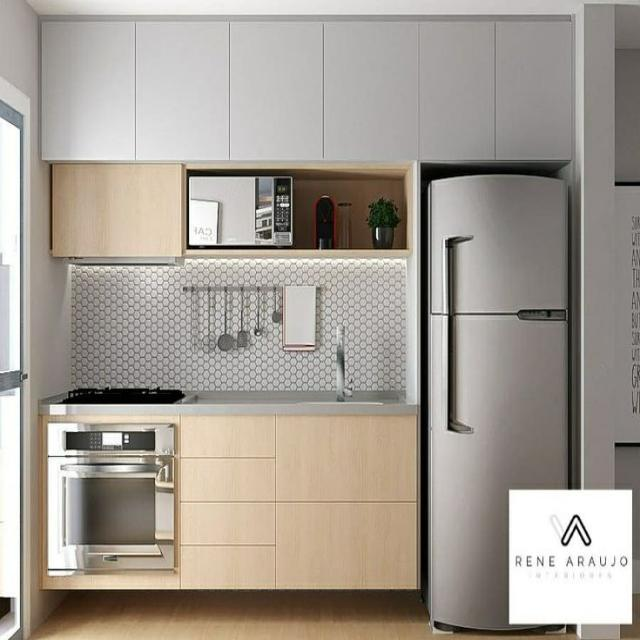obstacle: (421, 171, 571, 633), (185, 160, 414, 254)
